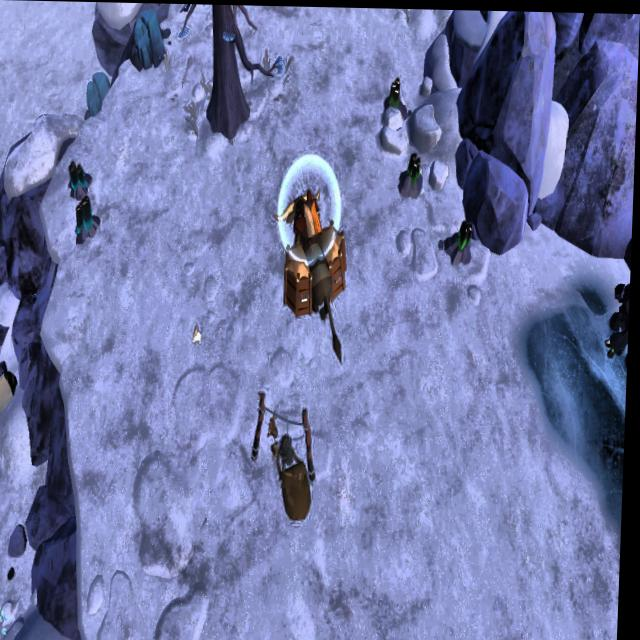ore_t3: (457, 214, 478, 250), (407, 142, 424, 183), (388, 72, 403, 107)
ore_t4: (69, 154, 89, 192), (77, 194, 94, 238)
rock_t4: (131, 11, 172, 75), (83, 67, 119, 127)
